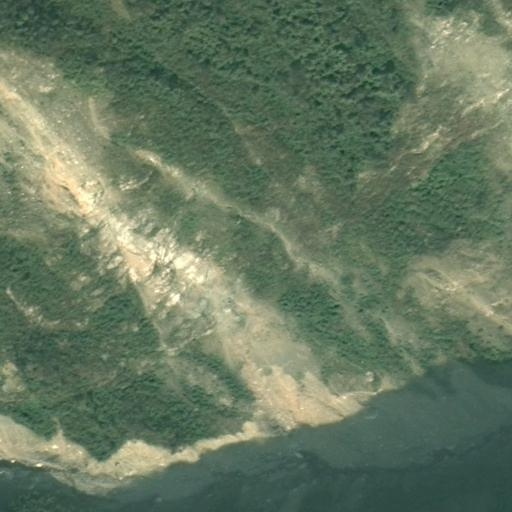landslide: (1, 44, 336, 431)
